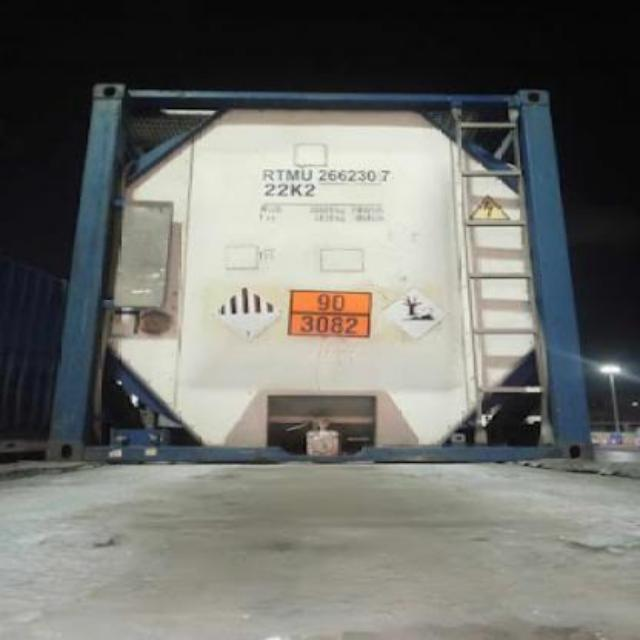0: (366, 166, 376, 182)
2: (346, 168, 356, 182), (318, 168, 328, 180)
3: (356, 168, 366, 182)
6: (338, 160, 346, 182), (328, 166, 336, 180)
7: (378, 164, 392, 186)
M: (284, 166, 300, 180)
R: (262, 168, 274, 180)
T: (274, 168, 286, 180)
U: (300, 166, 314, 180)
